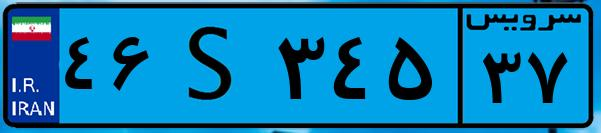3: (270, 28, 330, 110), (475, 38, 525, 113)
4: (330, 28, 385, 110), (57, 26, 110, 100)
5: (385, 28, 445, 110)
6: (110, 28, 158, 98)
7: (525, 38, 570, 115)
S: (158, 12, 270, 120)
